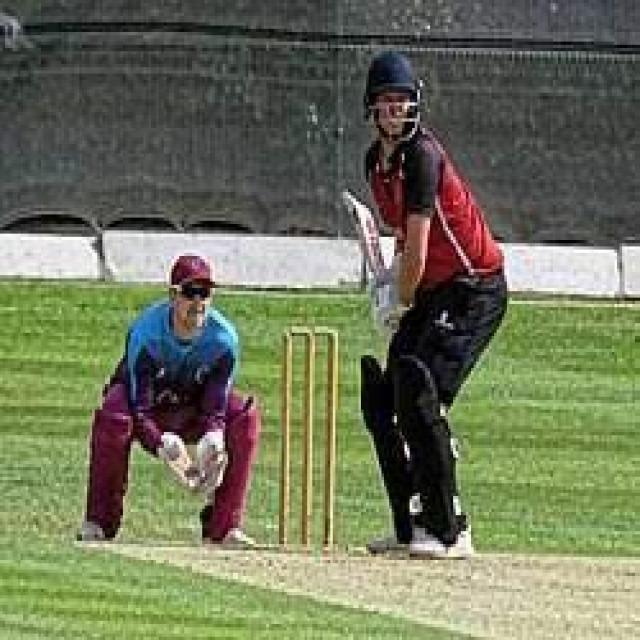bat: (340, 188, 384, 270)
toe: (338, 189, 358, 210)
